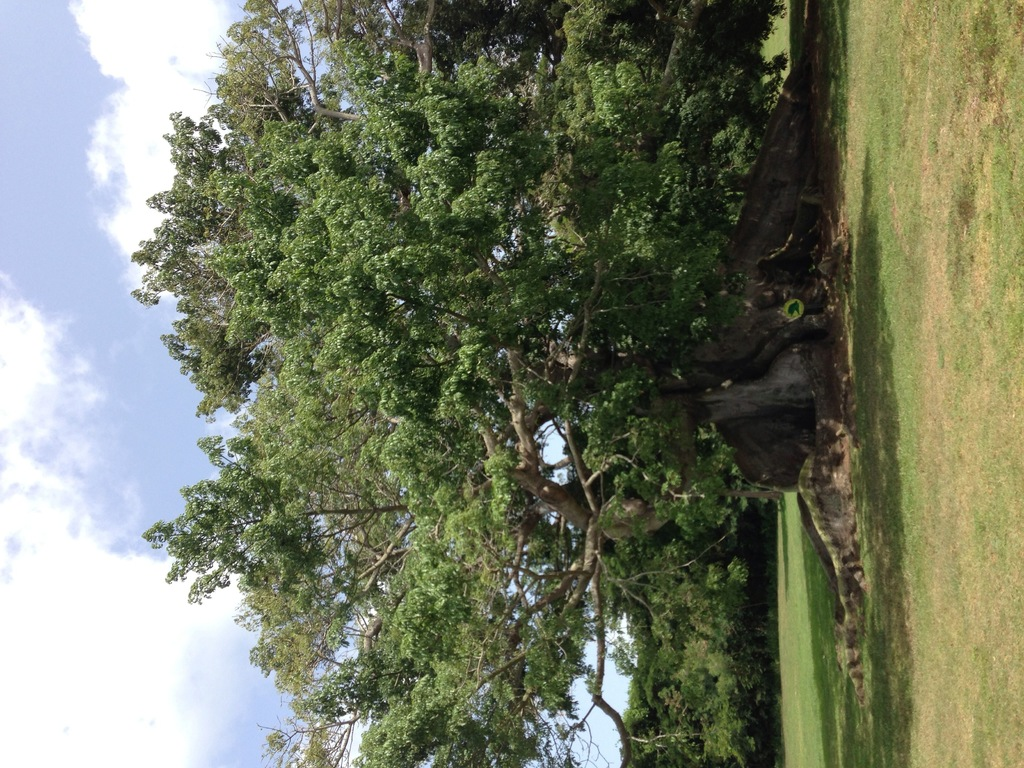Tree: (104, 0, 869, 717)
